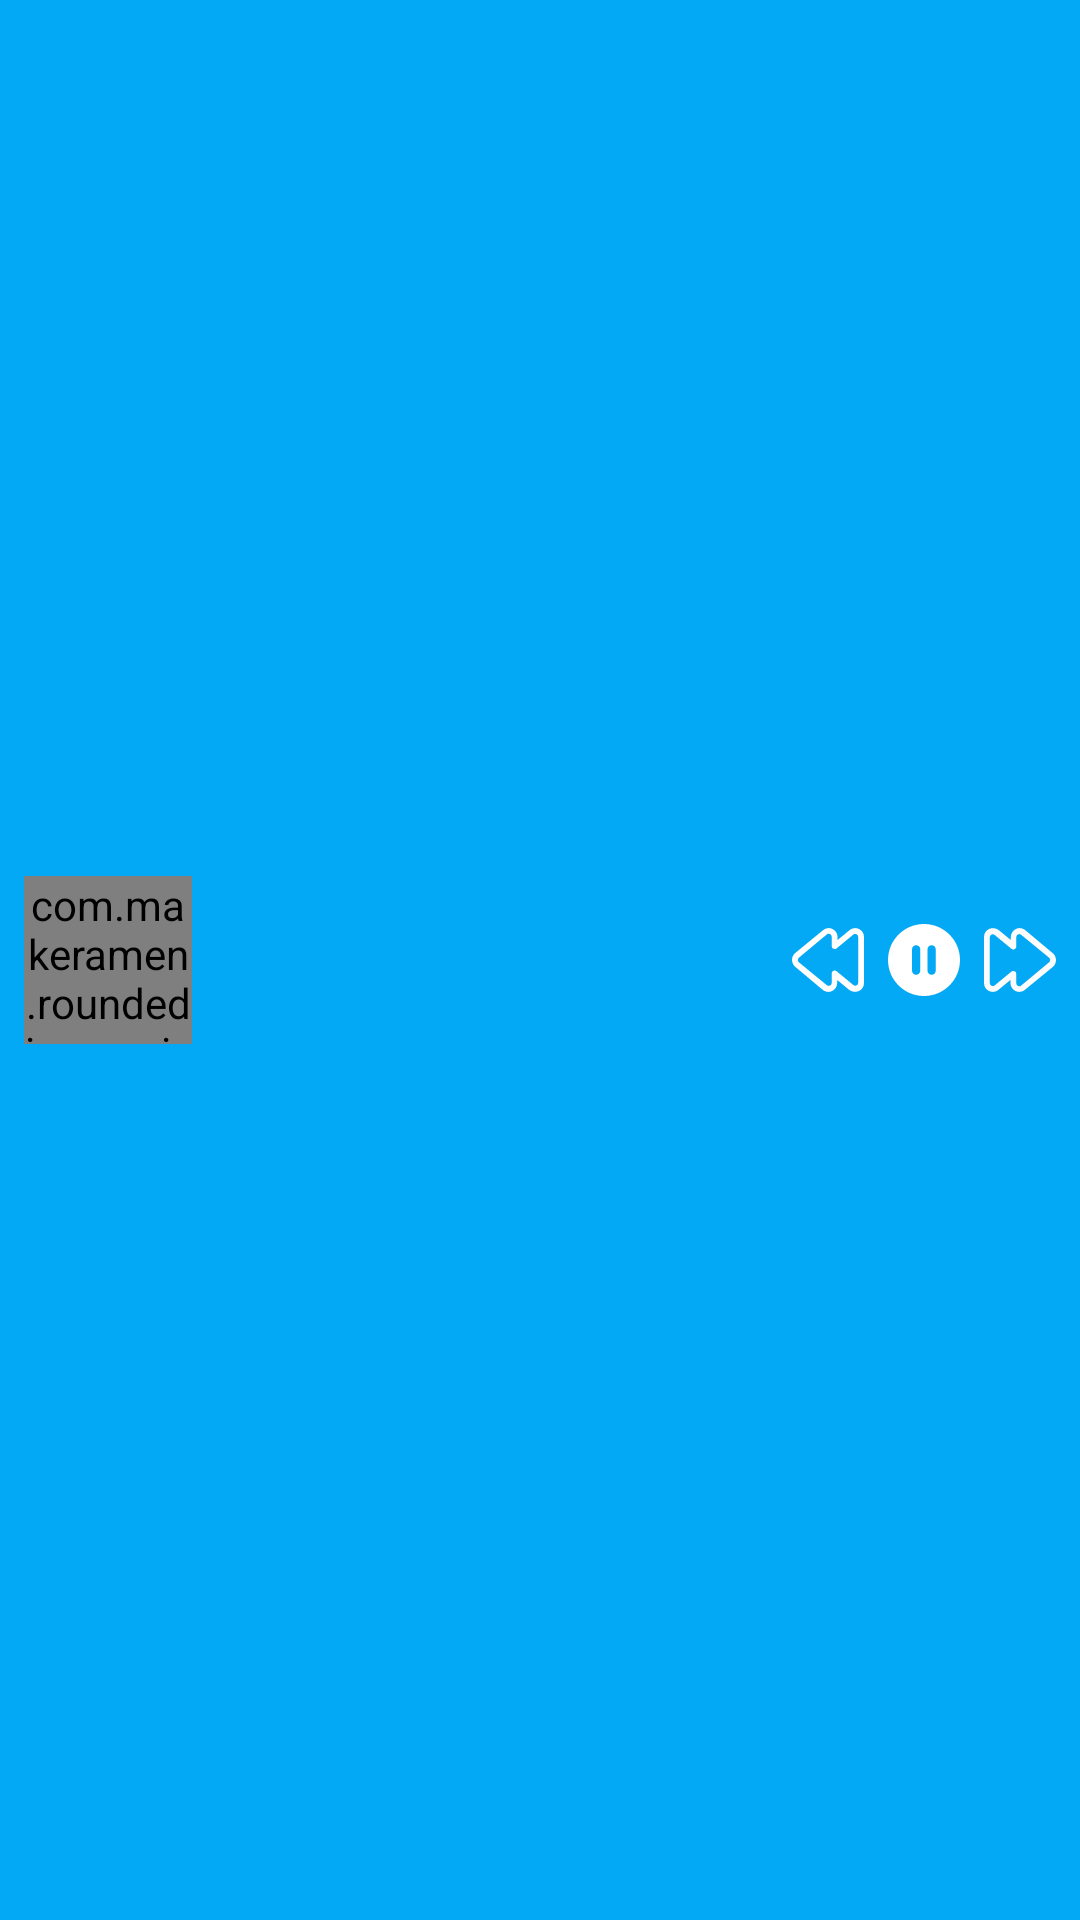

Point at icon controls on the screen. Image size 1080px×1920px, points as [x,y].
next: [1020,960]
pause: [924,960]
previous: [828,960]
